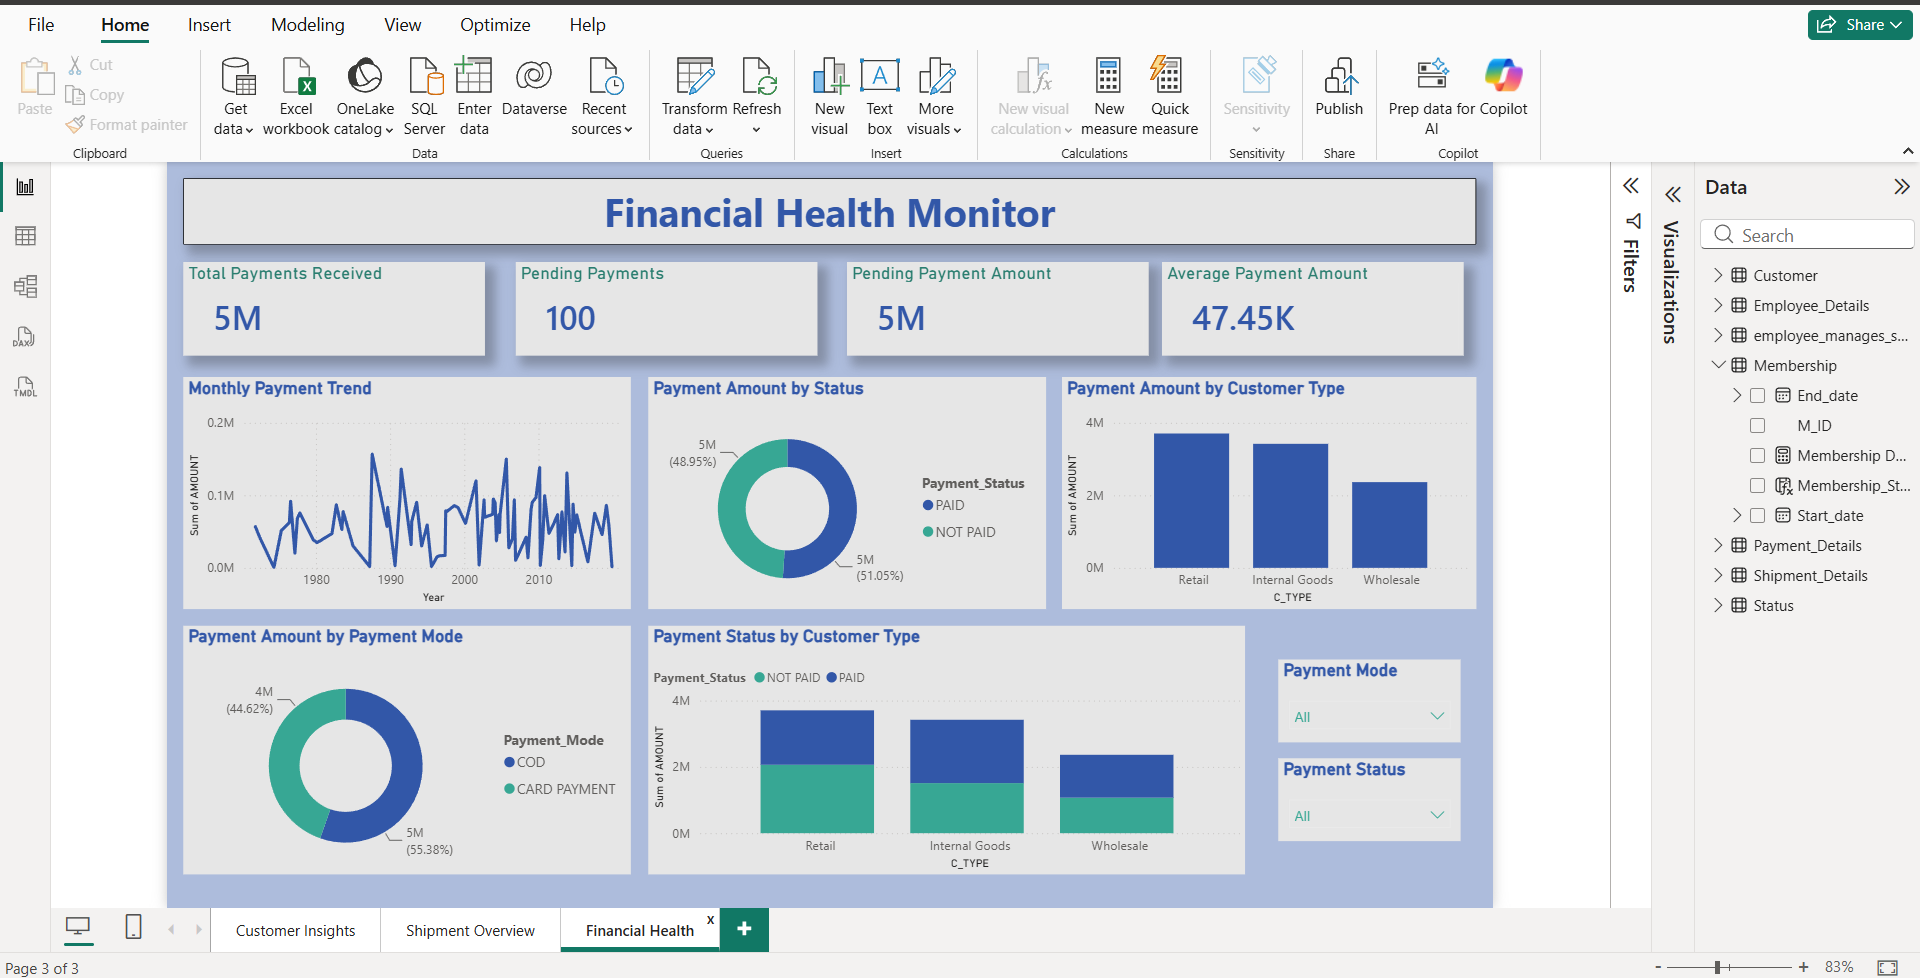

The page's visual inventory and layout, read from the dashboard file:
{"tool":"powerbi","page":{"name":"Financial Health","canvas":[1280,720],"ordinal":2},"visuals":[{"type":"textbox","box":[16,16,1248,64],"z":0},{"type":"cardVisual","title":"Total Payments Received","fields":{"Data":["Payment_Details.Total Payments Received"]},"box":[16,96,291,90],"z":1000},{"type":"cardVisual","title":"Pending Payment Amount","fields":{"Data":["Payment_Details.Pending Payment Amount"]},"box":[656,96,291,90],"z":2000},{"type":"cardVisual","title":"Pending Payments","fields":{"Data":["Payment_Details.Pending Payments Count"]},"box":[336,96,291,90],"z":3000},{"type":"cardVisual","title":"Average Payment Amount","fields":{"Data":["Payment_Details.Average Payment Amount"]},"box":[960,96,291,90],"z":4000},{"type":"lineChart","title":"Monthly Payment Trend","fields":{"Y":["Sum(Payment_Details.AMOUNT)"],"Category":["Payment_Details.Payment_Date.Variation.Date Hierarchy.Year","Payment_Details.Payment_Date.Variation.Date Hierarchy.Month"]},"box":[16,208,432,224],"z":5000},{"type":"donutChart","title":"Payment Amount by Status","fields":{"Category":["Payment_Details.Payment_Status"],"Y":["Sum(Payment_Details.AMOUNT)"]},"box":[464,208,384,224],"z":6000},{"type":"donutChart","title":"Payment Amount by Payment Mode","fields":{"Category":["Payment_Details.Payment_Mode"],"Y":["Sum(Payment_Details.AMOUNT)"]},"box":[16,448,432,240],"z":7000},{"type":"clusteredColumnChart","title":"Payment Amount by Customer Type","fields":{"Category":["Customer.C_TYPE"],"Y":["Sum(Payment_Details.AMOUNT)"]},"box":[864,208,400,224],"z":8000},{"type":"columnChart","title":"Payment Status by Customer Type","fields":{"Category":["Customer.C_TYPE"],"Y":["Sum(Payment_Details.AMOUNT)"],"Series":["Payment_Details.Payment_Status"]},"box":[464,448,576,240],"z":9000},{"type":"slicer","title":"Payment Mode","fields":{"Values":["Payment_Details.Payment_Mode"]},"box":[1072,480,176,80],"z":10000},{"type":"slicer","title":"Payment Status","fields":{"Values":["Payment_Details.Payment_Status"]},"box":[1072,576,176,80],"z":11000}]}

Visuals, with their boxes on the page's 1280x720 design canvas (x1, y1, x2, y2). These are canvas units, not pixel positions in the 1920x978 screenshot, which may show the page scaled, cropped or inside an application window:
textbox: BBox(16, 16, 1264, 80)
"Total Payments Received" cardVisual: BBox(16, 96, 307, 186)
"Pending Payment Amount" cardVisual: BBox(656, 96, 947, 186)
"Pending Payments" cardVisual: BBox(336, 96, 627, 186)
"Average Payment Amount" cardVisual: BBox(960, 96, 1251, 186)
"Monthly Payment Trend" lineChart: BBox(16, 208, 448, 432)
"Payment Amount by Status" donutChart: BBox(464, 208, 848, 432)
"Payment Amount by Payment Mode" donutChart: BBox(16, 448, 448, 688)
"Payment Amount by Customer Type" clusteredColumnChart: BBox(864, 208, 1264, 432)
"Payment Status by Customer Type" columnChart: BBox(464, 448, 1040, 688)
"Payment Mode" slicer: BBox(1072, 480, 1248, 560)
"Payment Status" slicer: BBox(1072, 576, 1248, 656)
